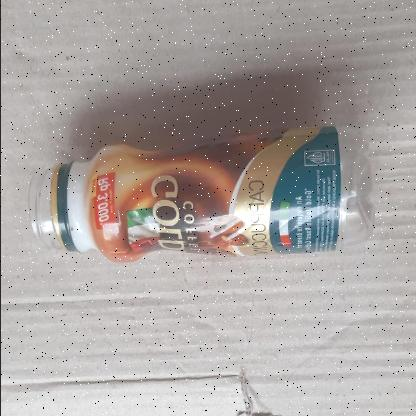Plastic Bottle: (26, 126, 376, 264)
